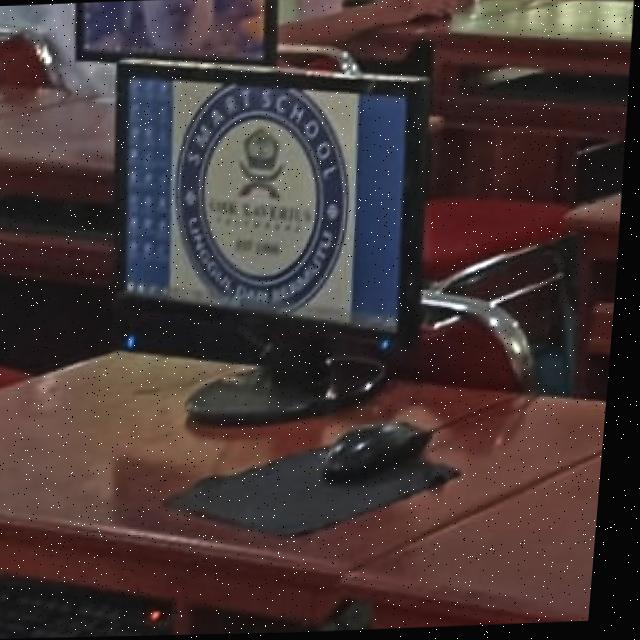onscreen: (119, 61, 427, 344), (77, 0, 264, 61)
